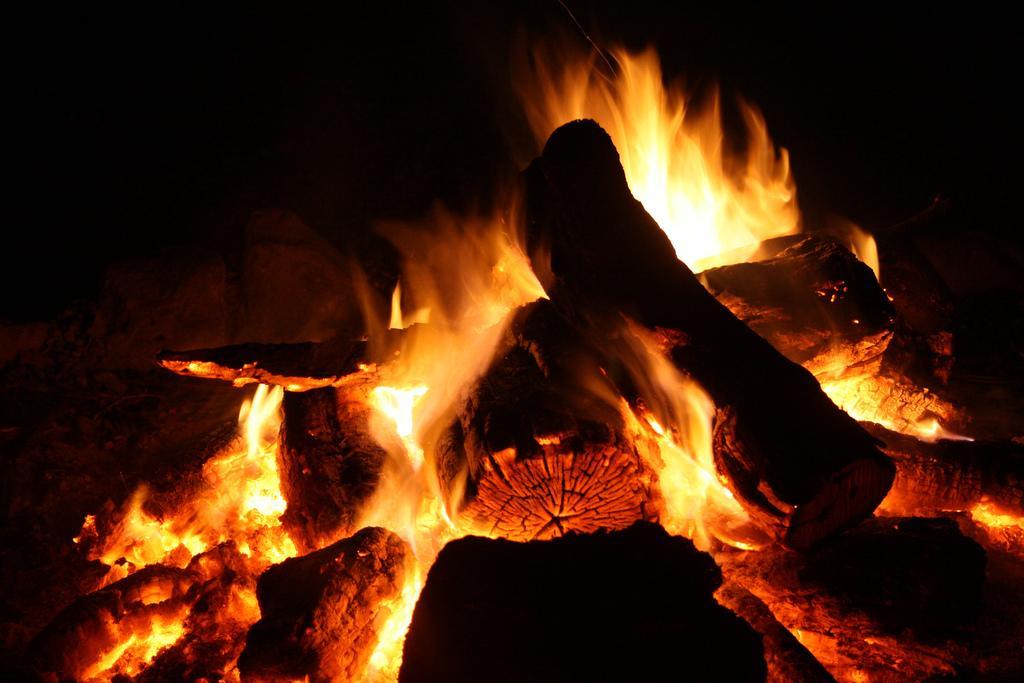fire: (623, 97, 780, 248), (370, 343, 457, 462), (647, 418, 727, 533), (228, 432, 278, 525)
